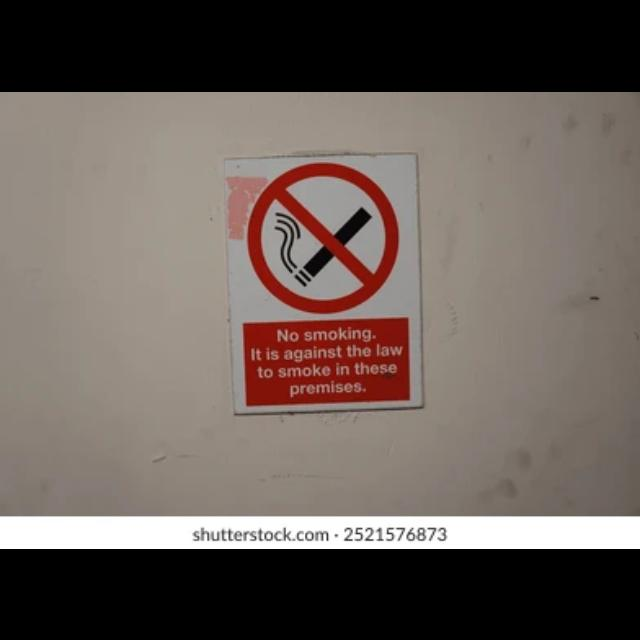cam hut thuoc: (224, 151, 423, 413)
